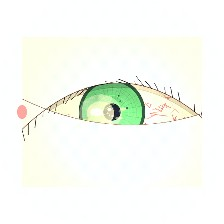corneal_ulcer: (78, 96, 123, 131)
